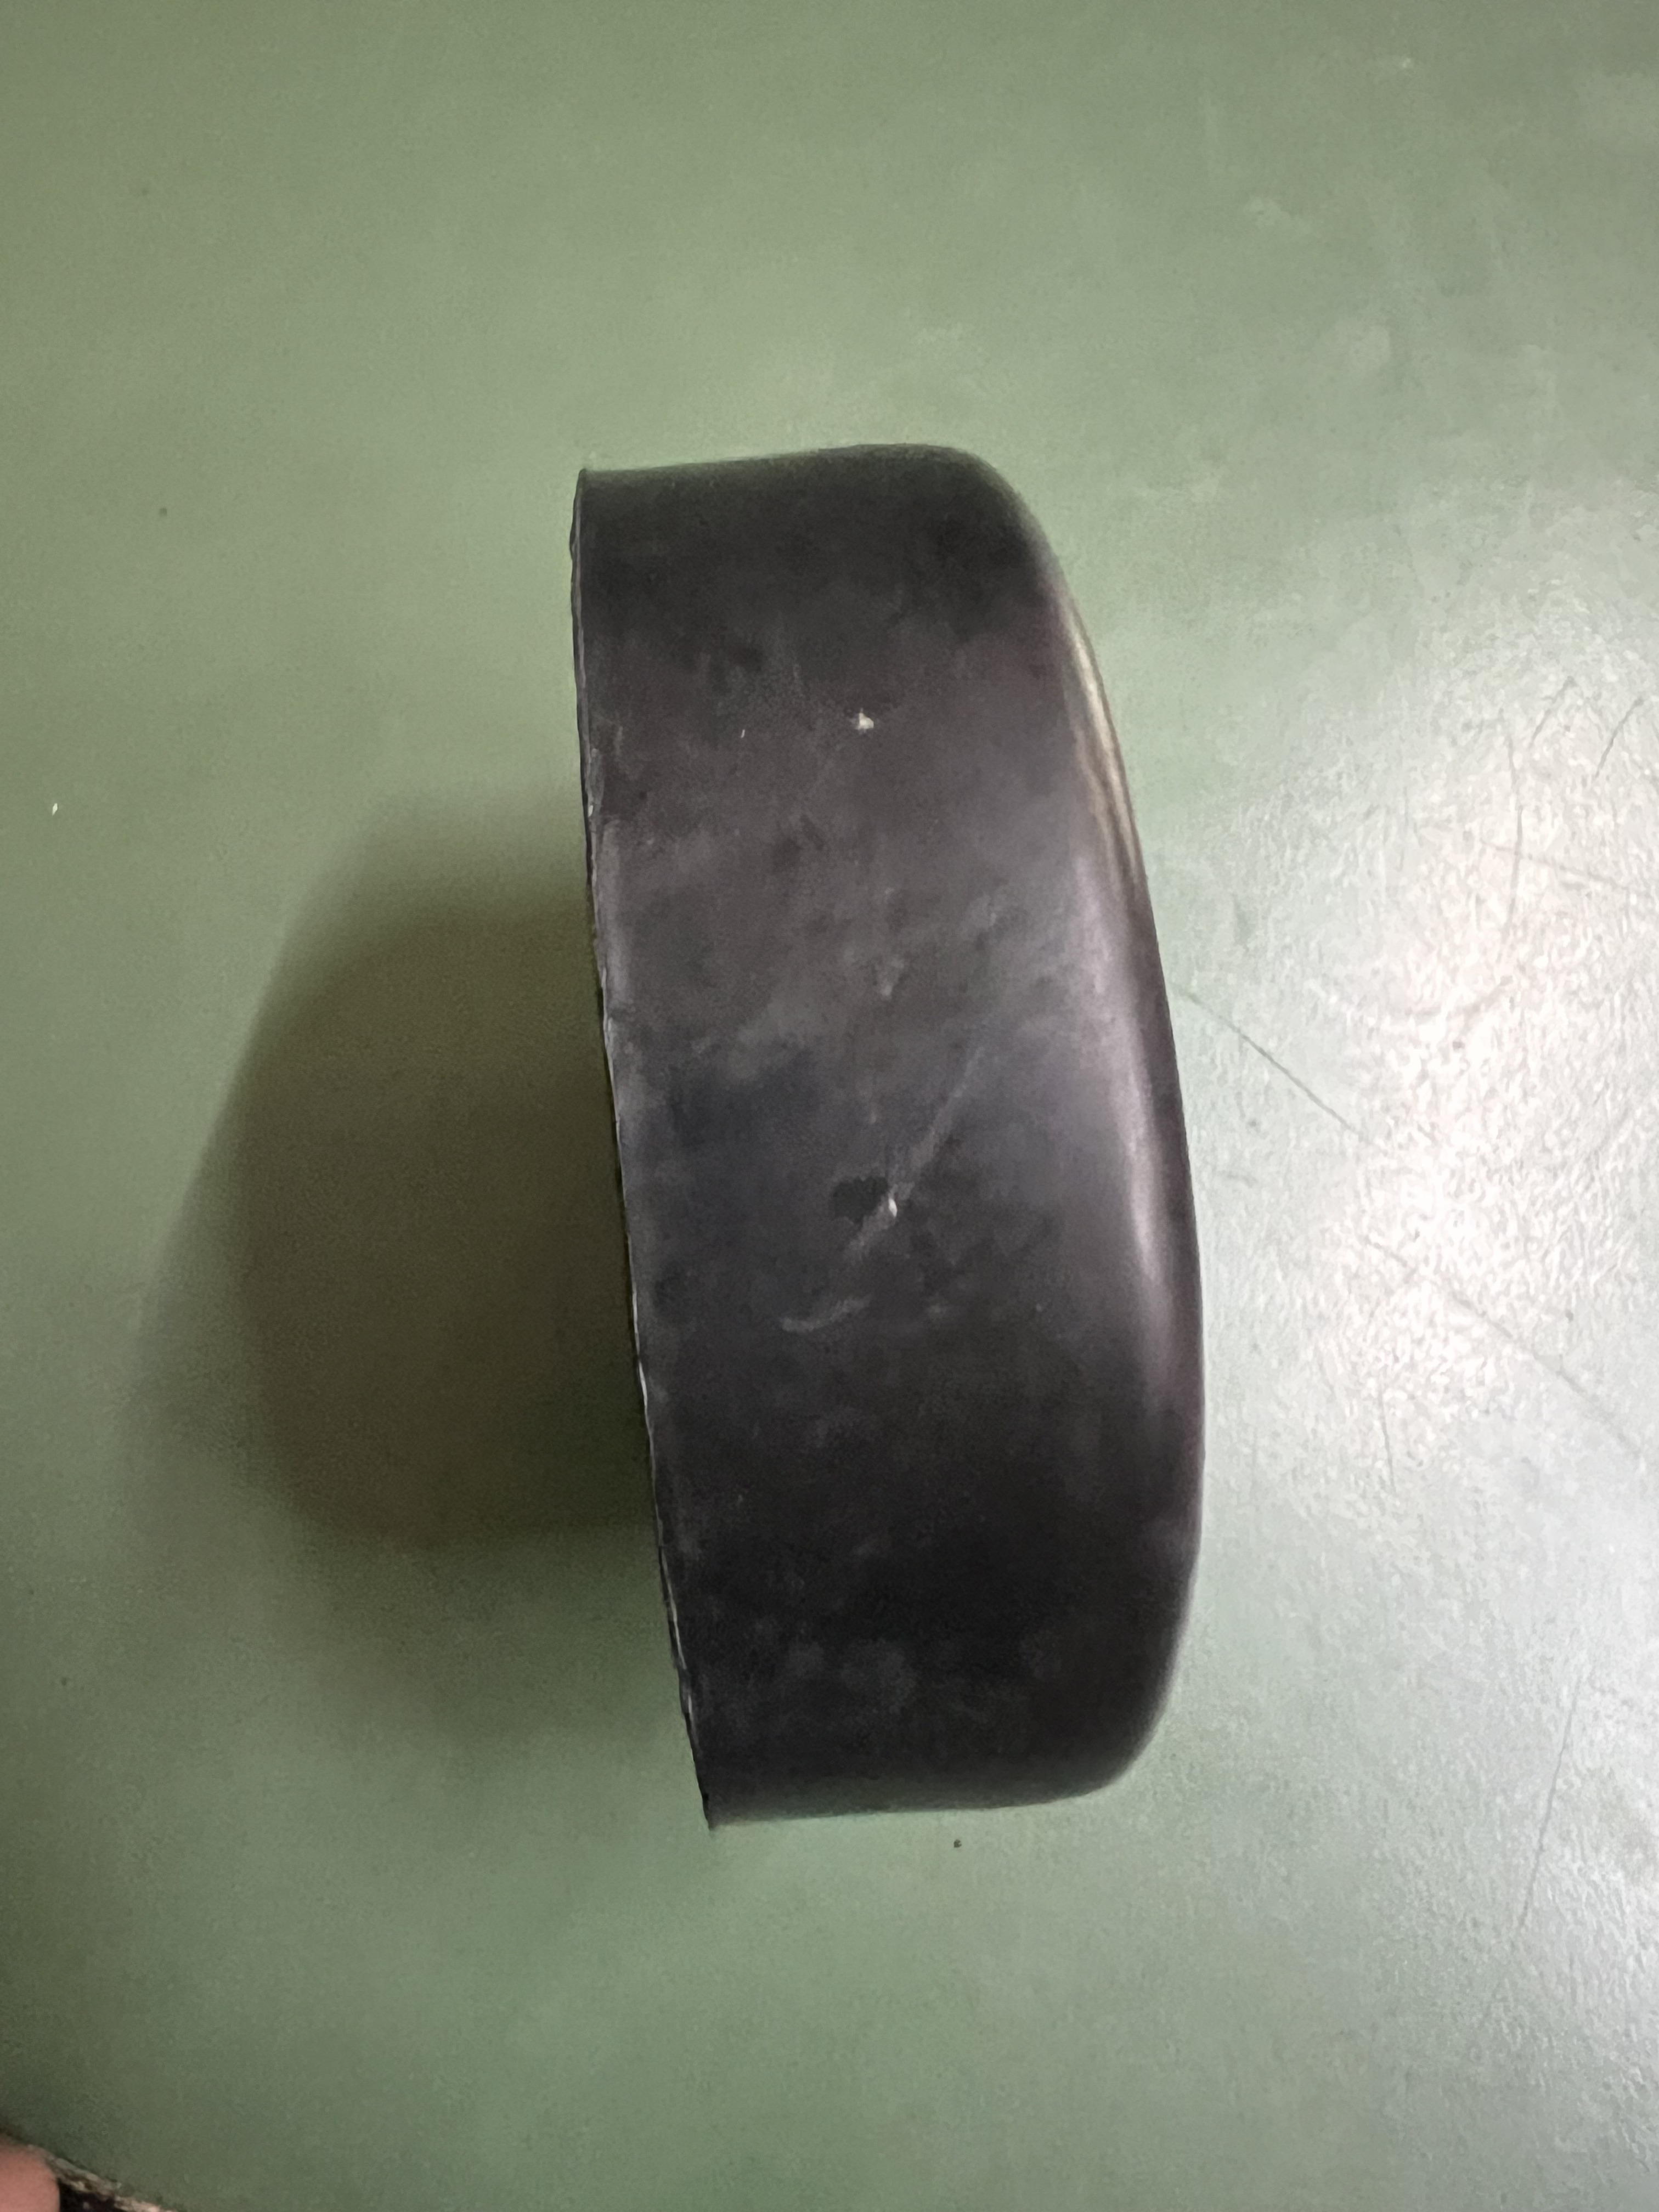lever: (498, 435, 1244, 1843)
